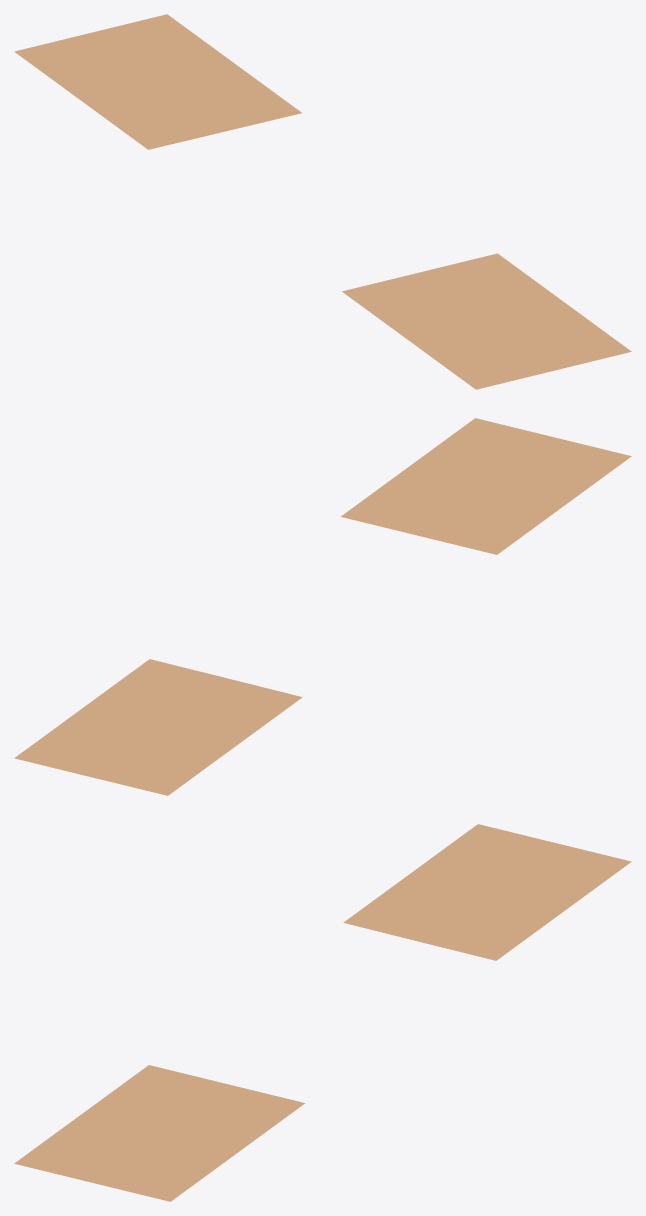
The model's file is HallwayStraightShortEmissives_Center.fbx.
3 renders of one model, top to bottom at view 1: azimuth 30°, elevation 25°; view 2: azimuth 150°, elevation 25°; view 3: azimuth 330°, elevation 25°, orthographic.
Visible parts, largest first — view 1: HallwayStraightShortEmissives.center; view 2: HallwayStraightShortEmissives.center; view 3: HallwayStraightShortEmissives.center.
Boxes of the visible parts, x1,y1,x2,y2 form: HallwayStraightShortEmissives.center: (14,14,631,389); HallwayStraightShortEmissives.center: (14,418,631,795); HallwayStraightShortEmissives.center: (14,824,631,1201).
Size of the model in its own units: 102 by 8.55e-05 by 525.
